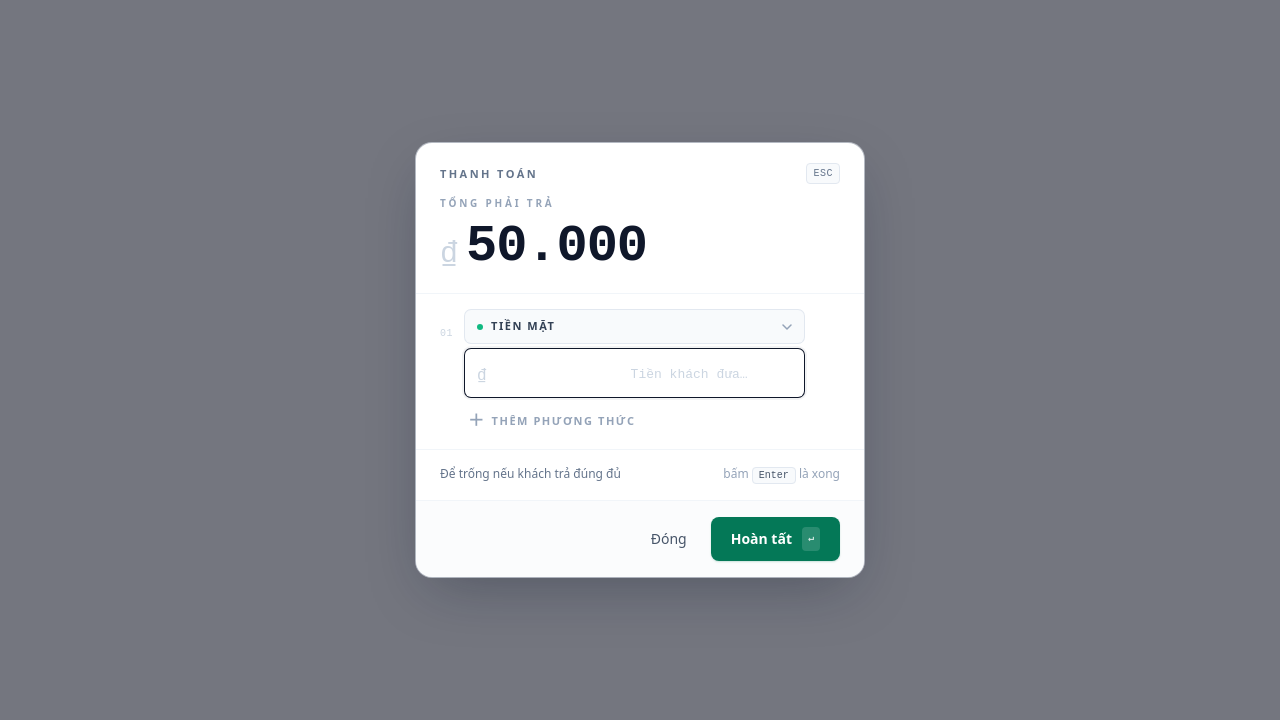
Test: PaymentDialog › shows change when cashier enters more than total
Type "60000" into the field named "Tiền khách đưa 1". click: [621, 373]
box: 495,359 -> 748,387
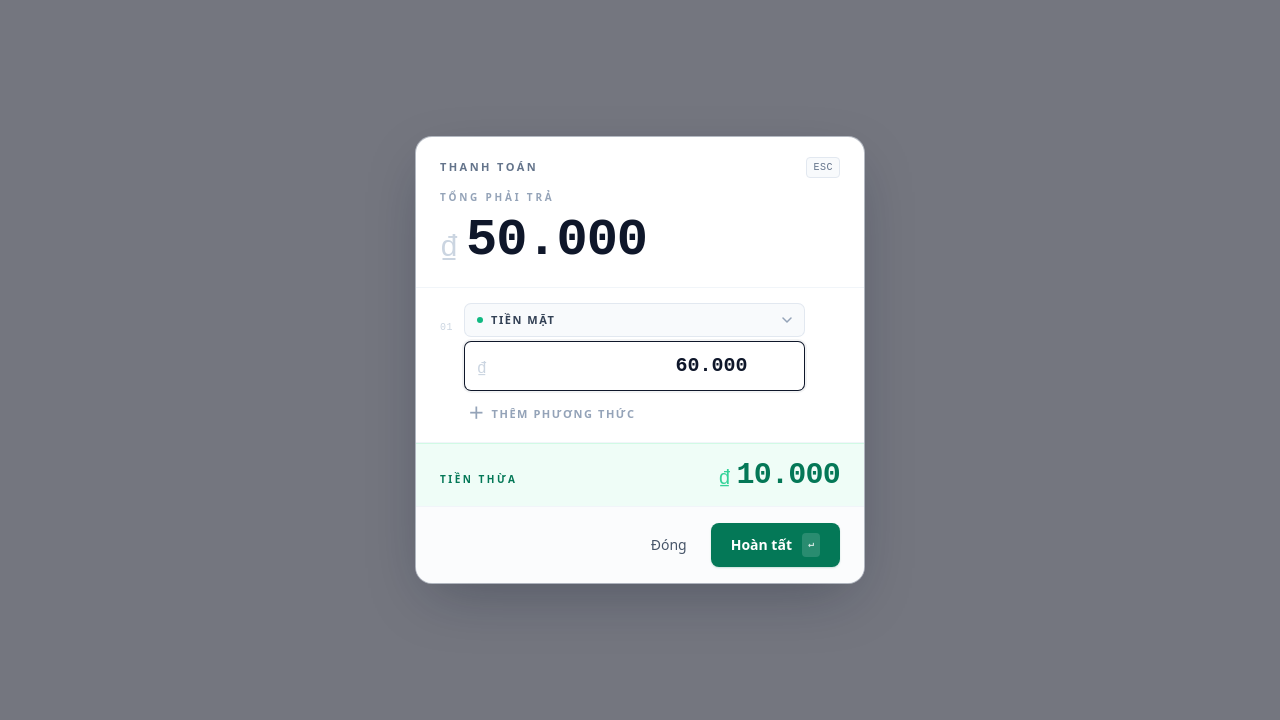
Expected: the message named "Tiền thừa cho khách" shows "Tiền thừa", 440,472 -> 517,486
Expected: the message named "Tiền thừa cho khách" shows "10.000", 736,458 -> 840,492
